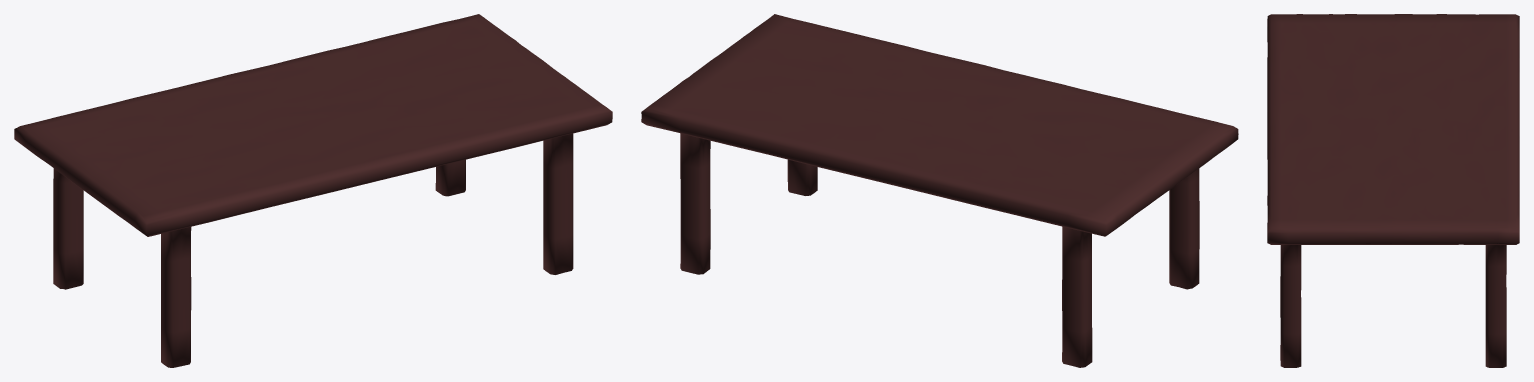
Rendered from table.fbx.
3 views of the same model, side by side, from view 1: azimuth 30°, elevation 25°; view 2: azimuth 150°, elevation 25°; view 3: azimuth 270°, elevation 25° (orthographic). The views are drawn at different scales.
Parts seen in each view (by area): view 1: Cube; view 2: Cube; view 3: Cube.
Part boxes in pixels (x1=…): Cube: x1=14, y1=14, x2=612, y2=367; Cube: x1=641, y1=14, x2=1238, y2=367; Cube: x1=1267, y1=14, x2=1519, y2=367.
Bounding box in the file's own units: 1375 × 451 × 676.
